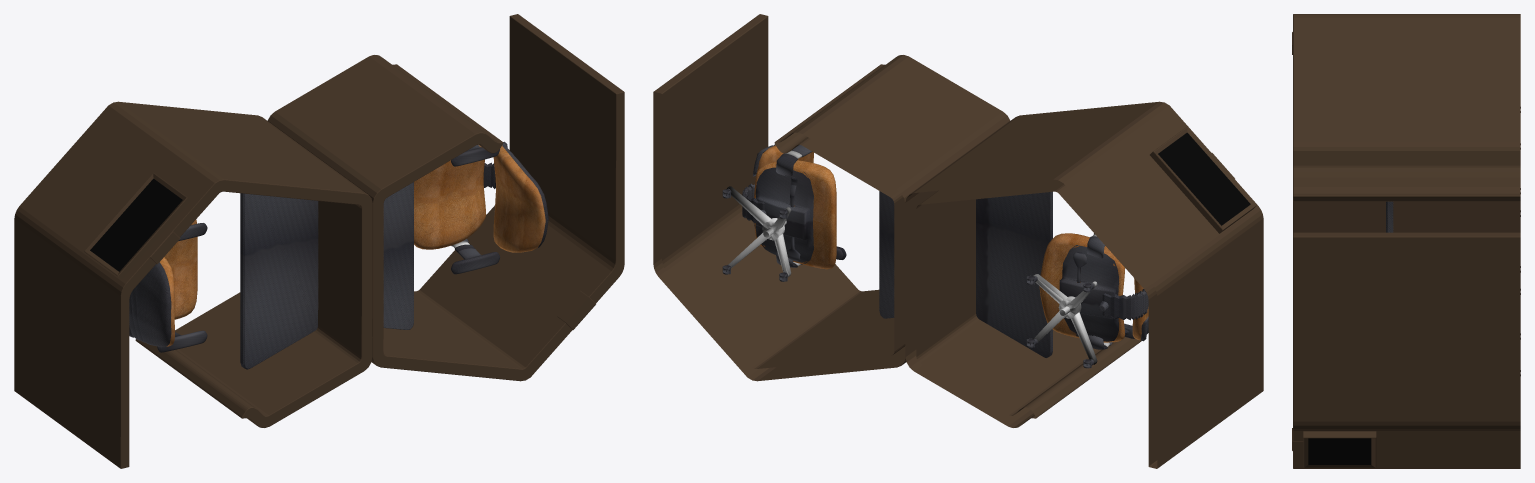
Rendered from empoda.obj.
The picture shows the model from 3 angles, left to right: view 1: azimuth 30°, elevation 25°; view 2: azimuth 150°, elevation 25°; view 3: azimuth 270°, elevation 25°; orthographic projection. The views are drawn at different scales.
Parts seen in each view (by area): view 1: Cylinder.006_Cylinder.007, Cylinder.003_Cylinder.020, Plane.005, Cube_Cube.003, Cube.001_Cube.000_Cube.001_Cube.011, Plane.001_Plane.009, Cube.008_Cube.000_Cube.008_Cube.010, Cube.010_Cube.006_Cube.010_Cube.008, Cube.001_Cube.006_Cube.001_Cube.009, Cube.005_Cube.000_Cube.005_Cube.011, Cube.001_Cube.004; view 2: Cylinder.006_Cylinder.007, Cylinder.003_Cylinder.020, Plane.005, Cube_Cube.003, Cube.003_Cube.000_Cube.003_Cube.011, Cube.003_Cube.006_Cube.003_Cube.009, Cube.001_Cube.000_Cube.001_Cube.011, Cube.001_Cube.006_Cube.001_Cube.009, Plane.001_Plane.009, Cylinder.002_Cylinder.006_Cylinder.002_Cylinder.009, Cylinder.002_Cylinder.000_Cylinder.002_Cylinder.011, BezierCurve_CUBezierCurve.006_BezierCurve_CUBezierCurve.009; view 3: Cylinder.003_Cylinder.020, Cylinder.006_Cylinder.007, Cube.001_Cube.004, Plane.001_Plane.009.
Boxes of the visible parts, left/top/right/bottom form: Cylinder.006_Cylinder.007: left=14, top=101, right=372, bottom=468; Cylinder.003_Cylinder.020: left=267, top=14, right=624, bottom=381; Plane.005: left=240, top=193, right=318, bottom=369; Cube_Cube.003: left=84, top=172, right=190, bottom=279; Cube.001_Cube.000_Cube.001_Cube.011: left=414, top=145, right=486, bottom=249; Plane.001_Plane.009: left=383, top=182, right=413, bottom=329; Cube.008_Cube.000_Cube.008_Cube.010: left=493, top=145, right=545, bottom=252; Cube.010_Cube.006_Cube.010_Cube.008: left=129, top=262, right=171, bottom=346; Cube.001_Cube.006_Cube.001_Cube.009: left=164, top=219, right=197, bottom=319; Cube.005_Cube.000_Cube.005_Cube.011: left=451, top=239, right=499, bottom=274; Cube.001_Cube.004: left=557, top=290, right=595, bottom=329; Cylinder.006_Cylinder.007: left=905, top=101, right=1263, bottom=468; Cylinder.003_Cylinder.020: left=653, top=14, right=1010, bottom=381; Plane.005: left=976, top=191, right=1052, bottom=357; Cube_Cube.003: left=1150, top=126, right=1256, bottom=233; Cube.003_Cube.000_Cube.003_Cube.011: left=755, top=167, right=813, bottom=263; Cube.003_Cube.006_Cube.003_Cube.009: left=1059, top=245, right=1118, bottom=341; Cube.001_Cube.000_Cube.001_Cube.011: left=754, top=160, right=836, bottom=269; Cube.001_Cube.006_Cube.001_Cube.009: left=1039, top=233, right=1125, bottom=342; Plane.001_Plane.009: left=879, top=191, right=894, bottom=318; Cylinder.002_Cylinder.006_Cylinder.002_Cylinder.009: left=1033, top=274, right=1097, bottom=364; Cylinder.002_Cylinder.000_Cylinder.002_Cylinder.011: left=727, top=186, right=791, bottom=276; BezierCurve_CUBezierCurve.006_BezierCurve_CUBezierCurve.009: left=1102, top=289, right=1148, bottom=320; Cylinder.003_Cylinder.020: left=1293, top=151, right=1520, bottom=468; Cylinder.006_Cylinder.007: left=1293, top=14, right=1520, bottom=150; Cube.001_Cube.004: left=1292, top=428, right=1376, bottom=467; Plane.001_Plane.009: left=1386, top=201, right=1393, bottom=232.
Size of the model in its own units: 3.39 by 1.77 by 1.25.
Materials: 9 (7 with a texture image).
